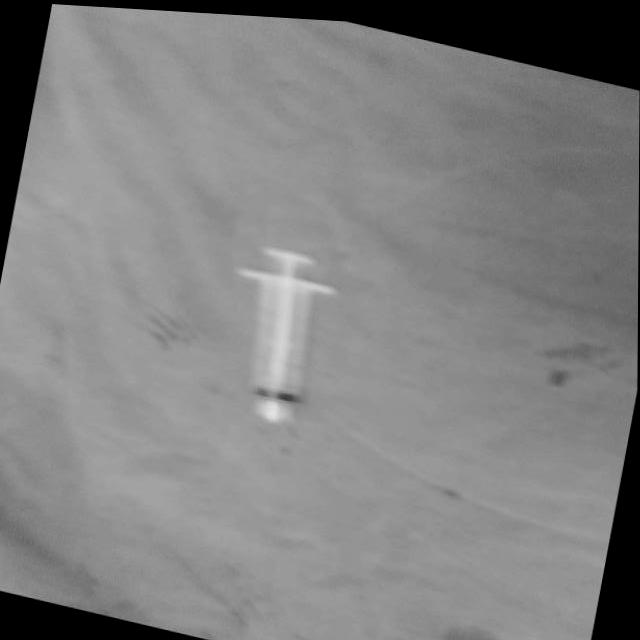Pathological: (0, 2, 638, 637)
Sharps: (233, 244, 338, 422)
